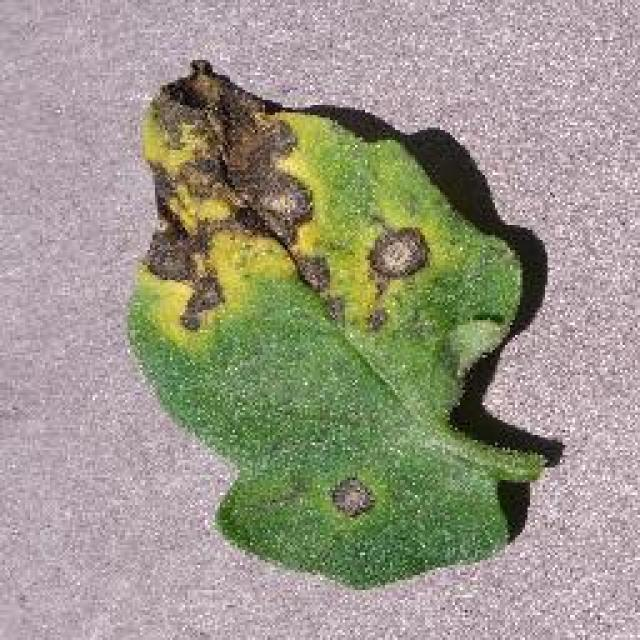Tomato target spot leaf: (126, 59, 524, 591)
